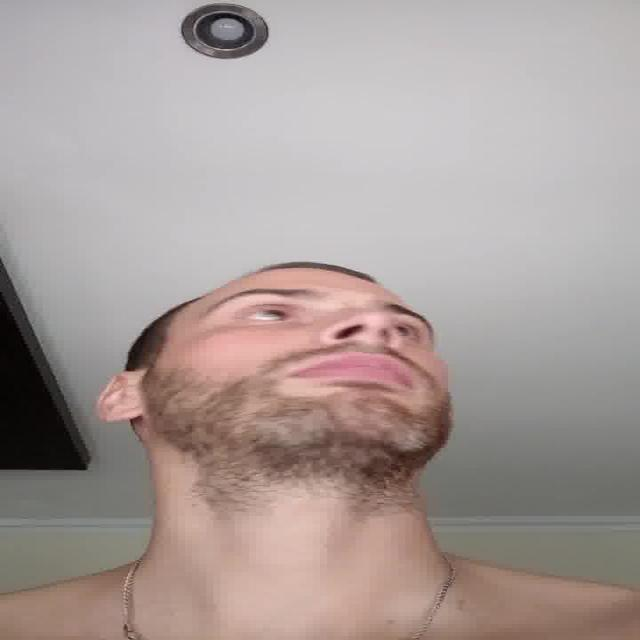earlobe: (96, 409, 142, 424)
eye: (238, 306, 296, 326), (392, 317, 423, 341)
nose: (322, 329, 406, 358)
wholeear: (97, 370, 147, 424)
